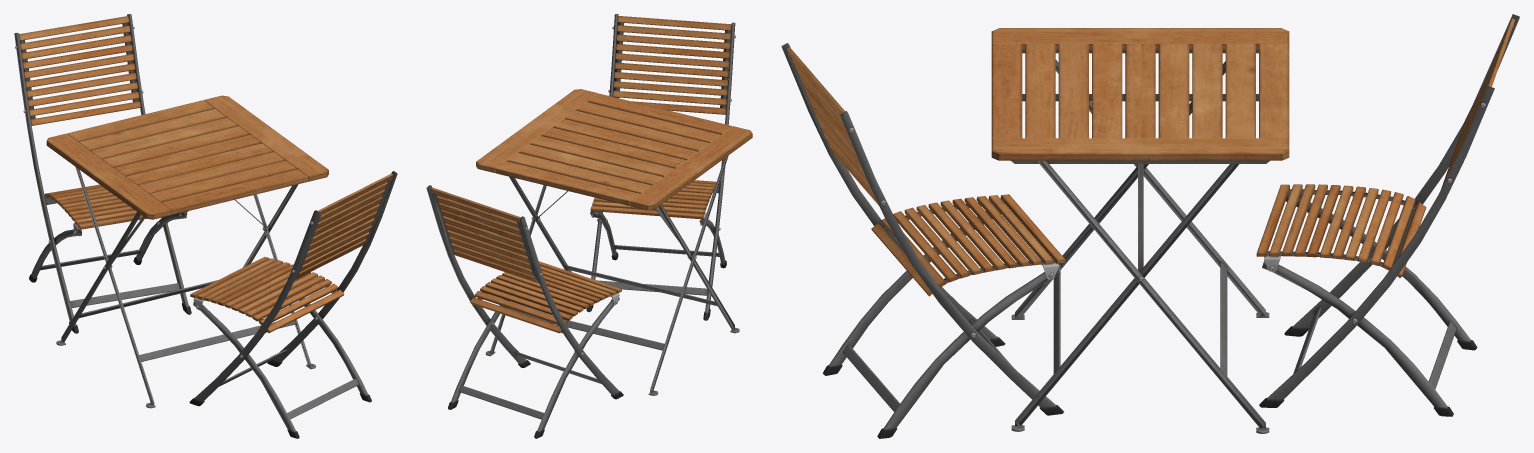
The model's file is outdoor_table_chair_set_01.gltf.
3 renders of one model, left to right at view 1: azimuth 30°, elevation 25°; view 2: azimuth 150°, elevation 25°; view 3: azimuth 270°, elevation 25°, orthographic. The views are drawn at different scales.
Parts seen in each view (by area): view 1: outdoor_table_chair_set_01_table, outdoor_table_chair_set_01_chair_02, outdoor_table_chair_set_01_chair_01; view 2: outdoor_table_chair_set_01_table, outdoor_table_chair_set_01_chair_02, outdoor_table_chair_set_01_chair_01; view 3: outdoor_table_chair_set_01_table, outdoor_table_chair_set_01_chair_01, outdoor_table_chair_set_01_chair_02.
Part boxes in pixels (<box>): outdoor_table_chair_set_01_table: <box>46,95,328,408</box>; outdoor_table_chair_set_01_chair_02: <box>14,14,191,333</box>; outdoor_table_chair_set_01_chair_01: <box>189,171,397,438</box>; outdoor_table_chair_set_01_table: <box>476,89,752,395</box>; outdoor_table_chair_set_01_chair_02: <box>426,185,623,438</box>; outdoor_table_chair_set_01_chair_01: <box>586,14,735,320</box>; outdoor_table_chair_set_01_table: <box>991,28,1289,433</box>; outdoor_table_chair_set_01_chair_01: <box>781,43,1065,438</box>; outdoor_table_chair_set_01_chair_02: <box>1256,14,1519,416</box>.
Bounding box in the file's own units: 0.7417 × 0.8575 × 1.72.
2 materials, 2 textured.
